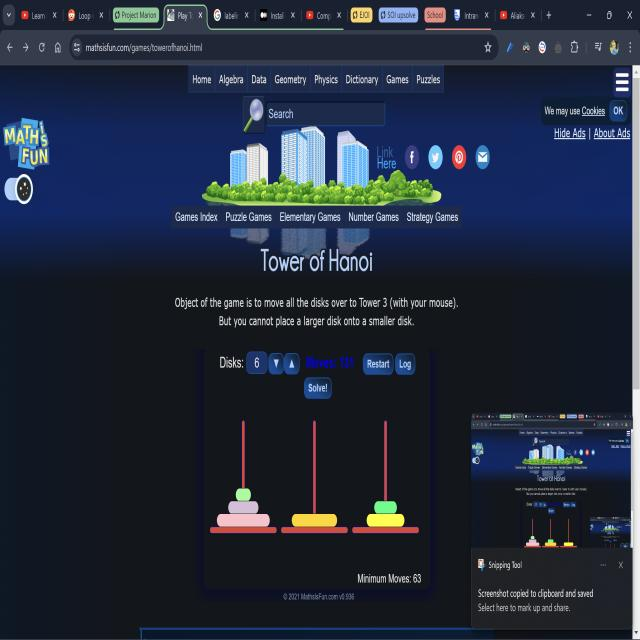disk1: (236, 488, 251, 501)
disk2: (374, 501, 396, 513)
disk3: (228, 501, 259, 514)
disk4: (366, 514, 404, 526)
disk5: (292, 514, 337, 526)
disk6: (217, 514, 270, 527)
